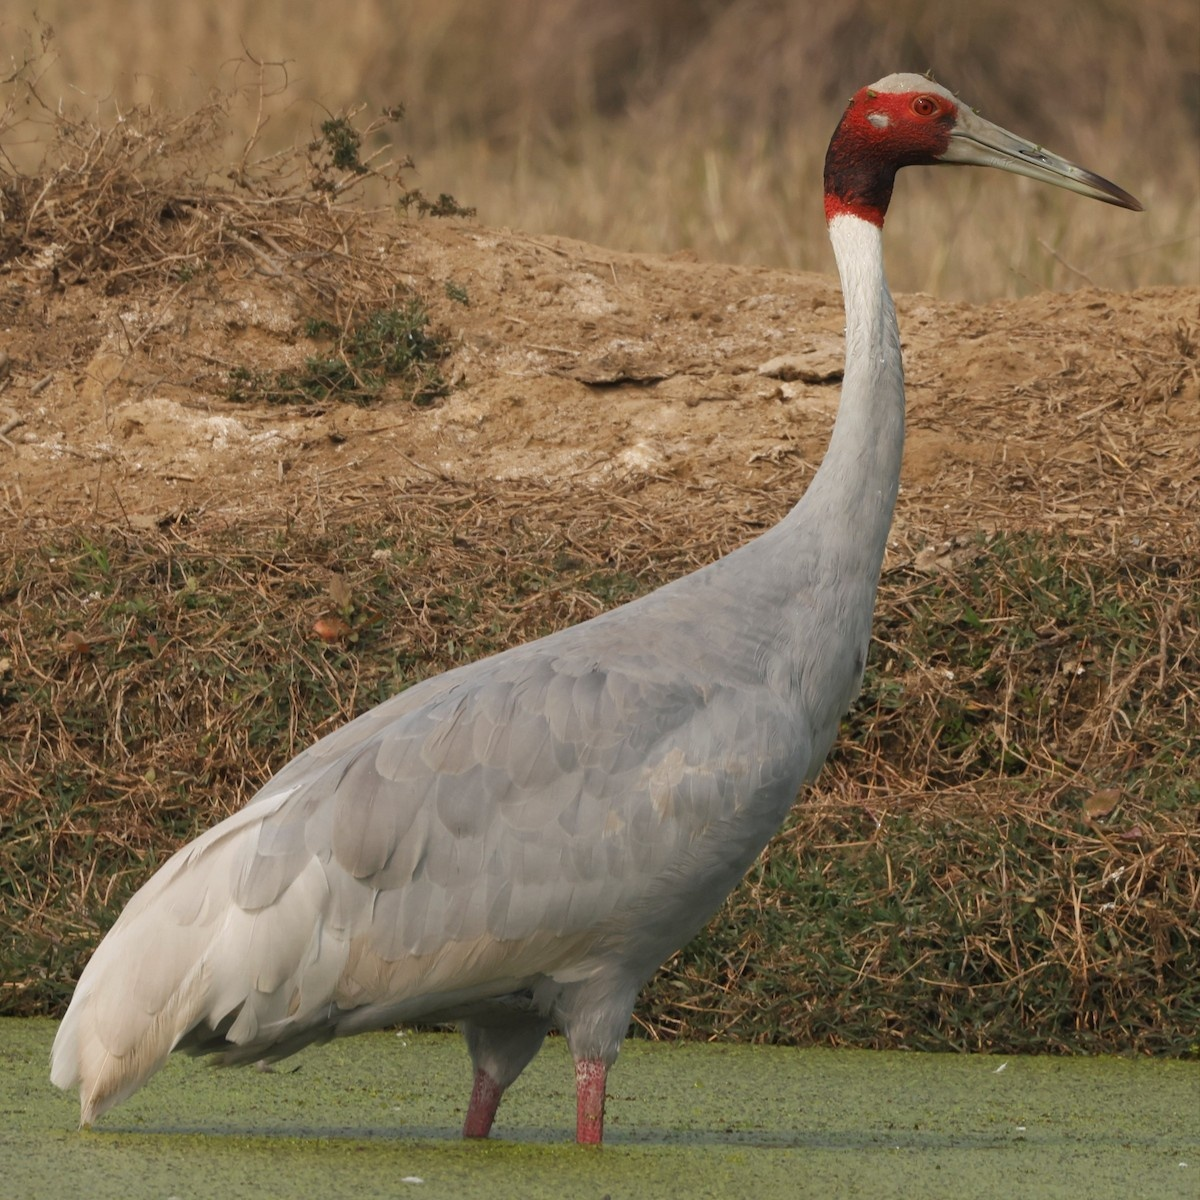crane: (56, 45, 1146, 1196)
